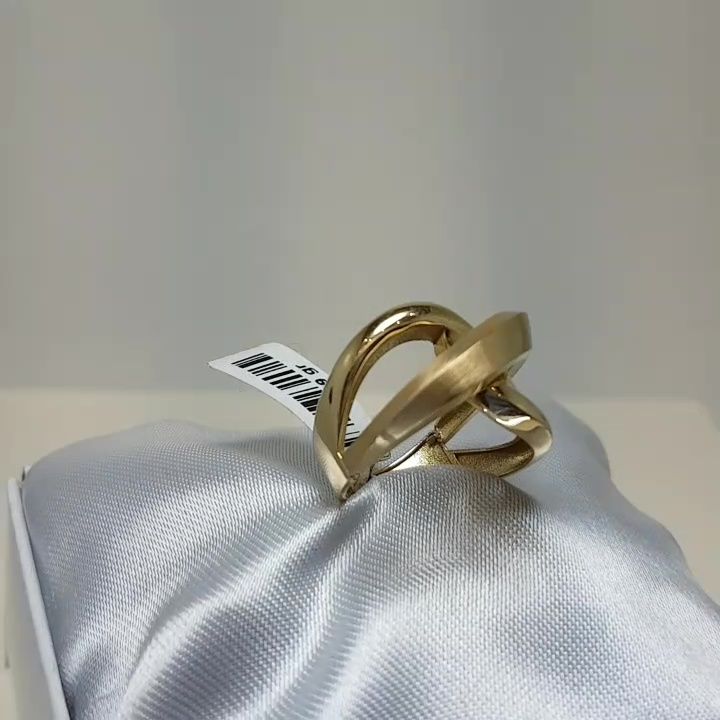Ring 3: (288, 298, 571, 529)
